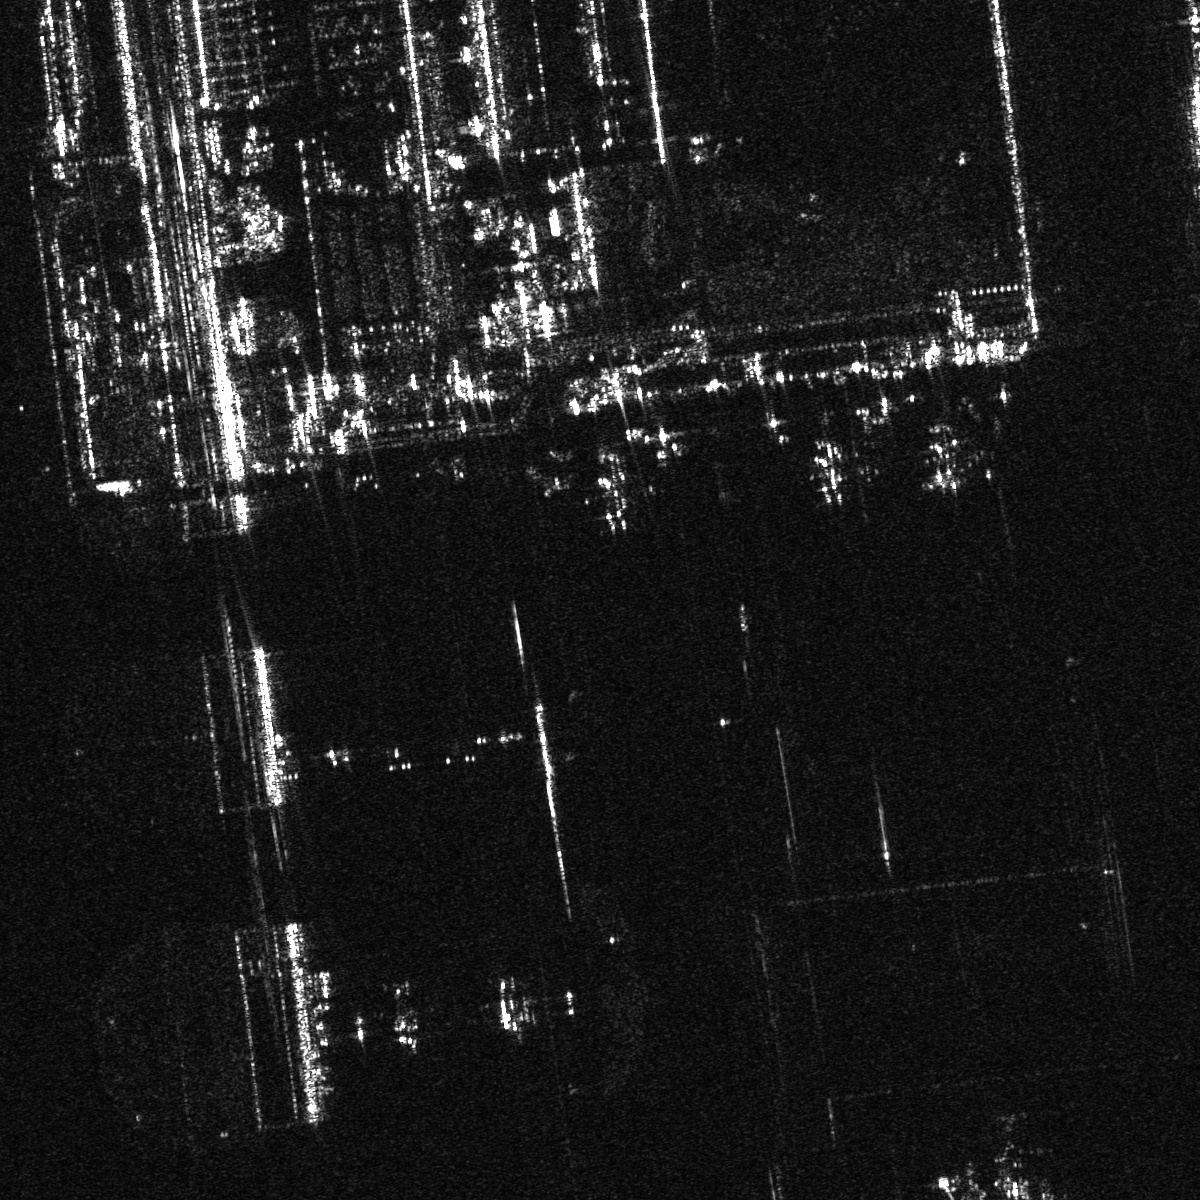A220: (373, 979, 437, 1052), (985, 1114, 1040, 1171)
Boeing787: (584, 451, 656, 534), (796, 432, 865, 509), (918, 426, 981, 495)
